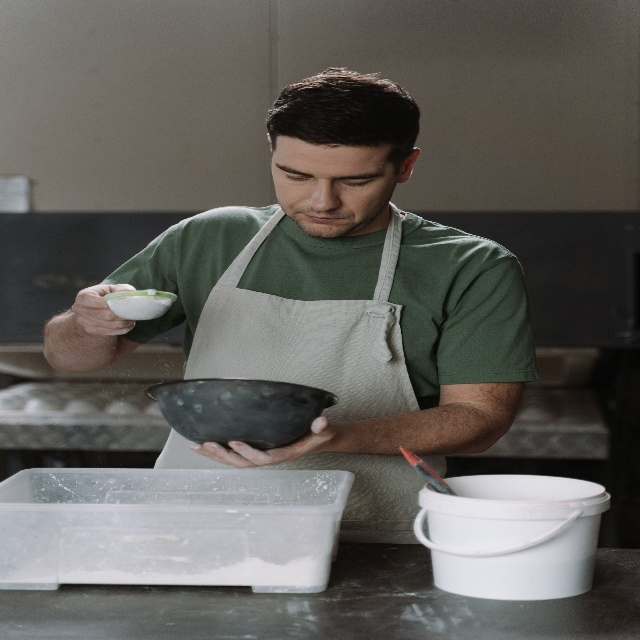Sin_guantes: (189, 415, 336, 468), (71, 283, 137, 338)
